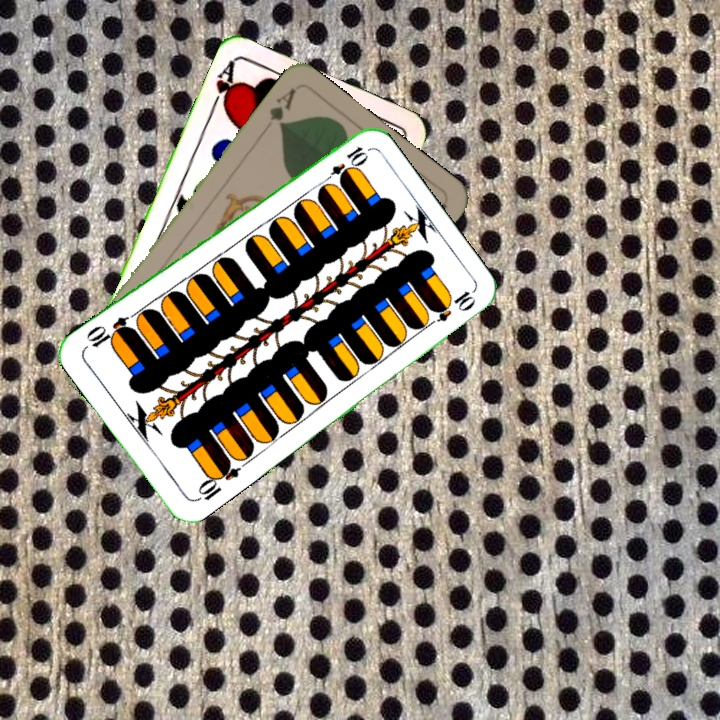E10: (191, 456, 242, 505), (318, 142, 370, 188)
GA: (265, 84, 299, 131)
HA: (206, 57, 240, 114)
